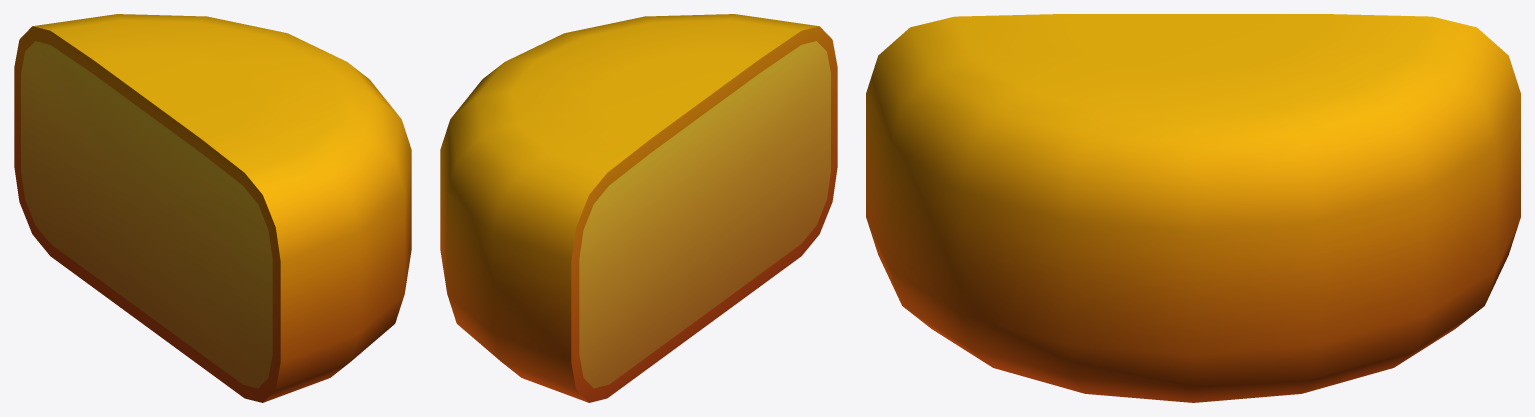
The model's file is Yellow_Cheese_Half_01.glb.
3 views of the same model, side by side, from view 1: azimuth 30°, elevation 25°; view 2: azimuth 150°, elevation 25°; view 3: azimuth 270°, elevation 25° (orthographic). The views are drawn at different scales.
Visible parts, largest first — view 1: Yellow_Cheese_Half_01; view 2: Yellow_Cheese_Half_01; view 3: Yellow_Cheese_Half_01.
Boxes of the visible parts, x1=… form: Yellow_Cheese_Half_01: x1=14, y1=14, x2=411, y2=402; Yellow_Cheese_Half_01: x1=440, y1=14, x2=837, y2=402; Yellow_Cheese_Half_01: x1=866, y1=14, x2=1520, y2=402.
Bounding box in the file's own units: 0.3166 × 0.2977 × 0.6309.
Materials: 1 (1 with a texture image).
